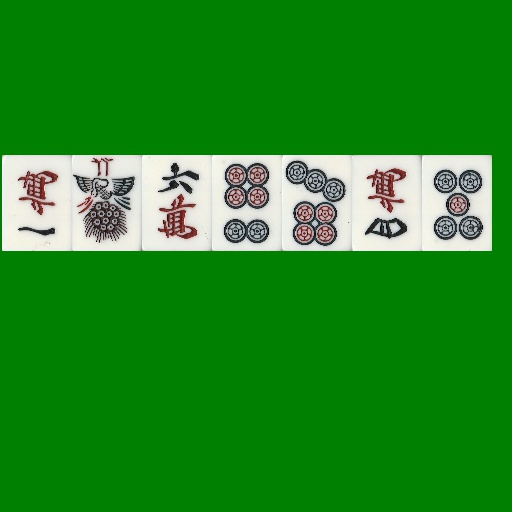1m: (2, 155, 72, 251)
1s: (72, 155, 142, 251)
4m: (352, 155, 422, 251)
5p: (422, 155, 492, 251)
6m: (142, 155, 212, 251)
6p: (212, 155, 282, 251)
7p: (282, 155, 352, 251)
